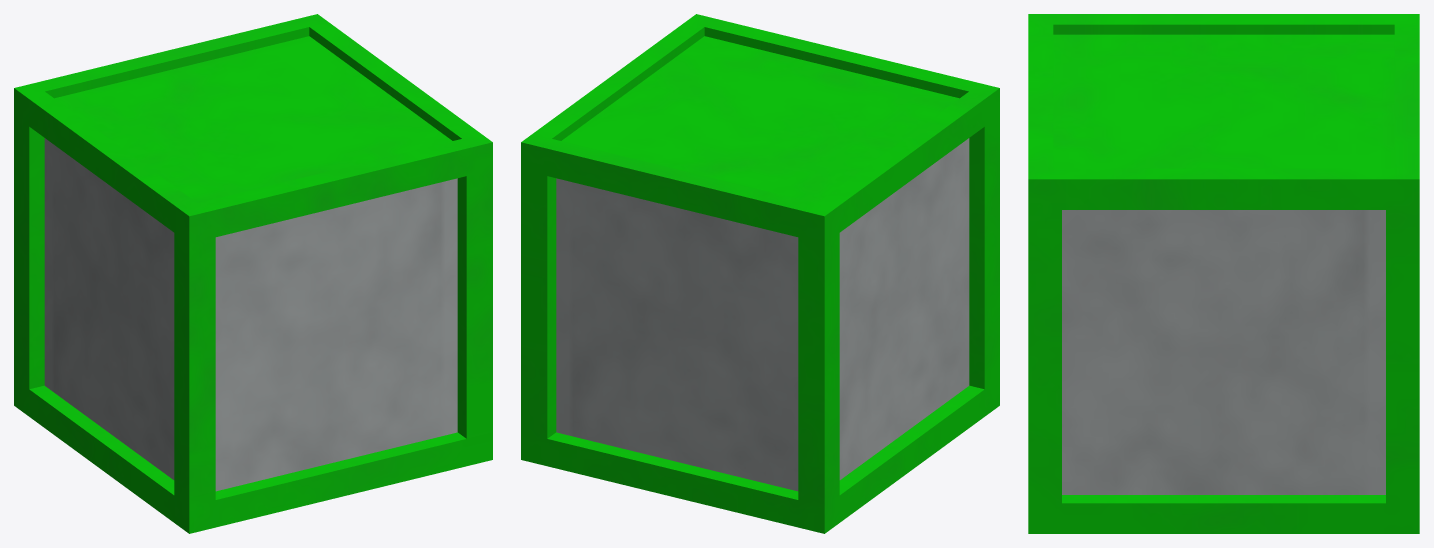
Rendered from caixa.fbx.
3 views of the same model, side by side, from view 1: azimuth 30°, elevation 25°; view 2: azimuth 150°, elevation 25°; view 3: azimuth 270°, elevation 25° (orthographic). The views are drawn at different scales.
Visible parts, largest first — view 1: Cube; view 2: Cube; view 3: Cube.
Part boxes in pixels (x1,y1,x2,y2): Cube: [14, 14, 492, 533]; Cube: [521, 14, 999, 533]; Cube: [1028, 14, 1419, 533].
Size of the model in its own units: 319 by 319 by 319.
